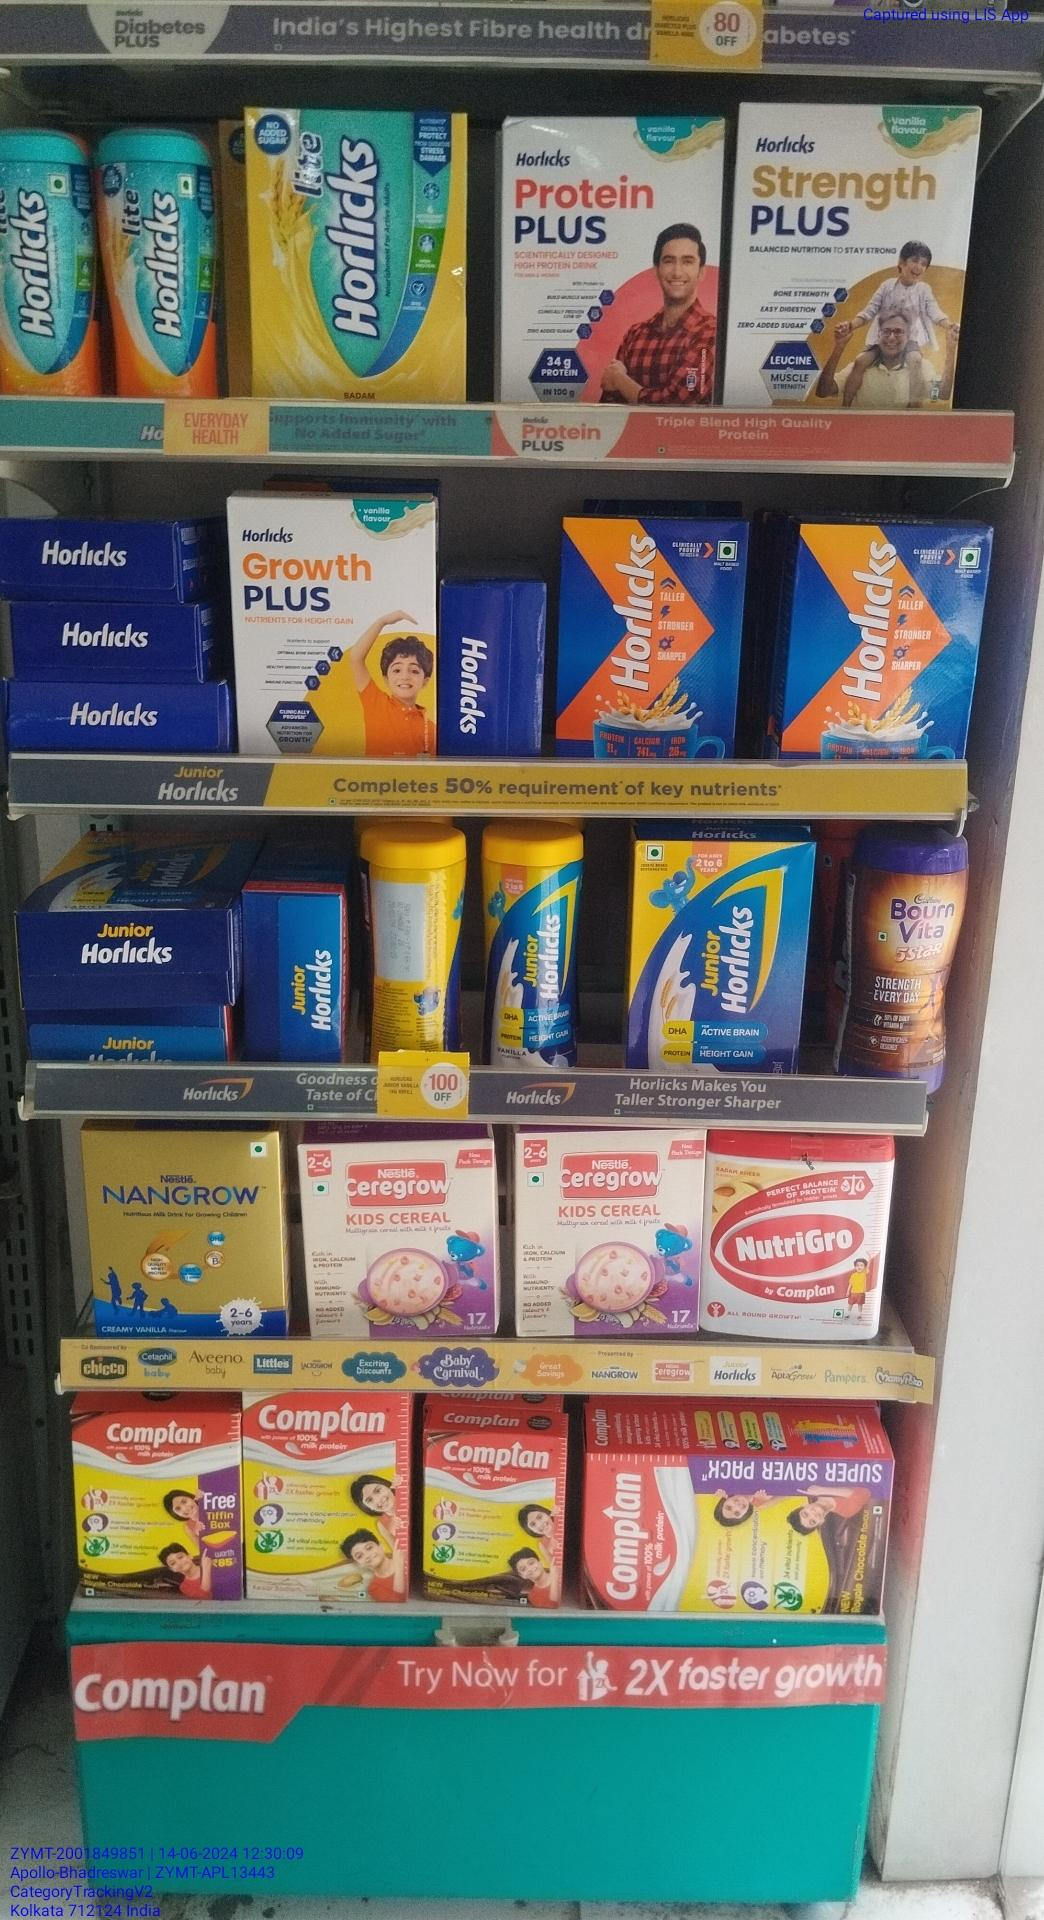BOURN_VITA_FIVE_STAR_MAGIC_500_G_JAR: (849, 834, 960, 1077)
COMPLAN_CHOCOLATE_500_GMS_PACK: (75, 1411, 238, 1599), (424, 1430, 563, 1606)
COMPLAN_KESAR_BADAM_500_GMS_PACK: (247, 1389, 408, 1605)
HORLICKS_JUNIOR_VANILLA_500_GM_JAR: (482, 833, 577, 1064)
HORLICKS_LITE_REGULAR_MALT_500_GM_JAR: (102, 125, 217, 401), (0, 130, 98, 395)
HORLICK_CLASSIC_MALT_500_G_PACK: (557, 514, 738, 765), (780, 520, 969, 761)
